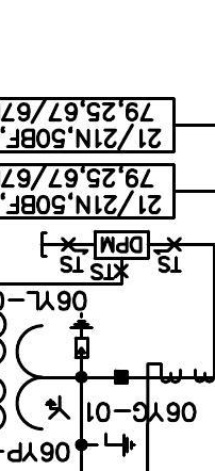115_gs: (94, 431, 137, 459)
115_la: (68, 311, 95, 360)
DPM: (93, 230, 150, 260)
